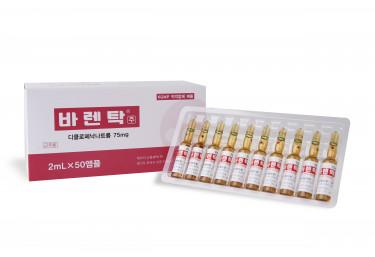medicine_box: (315, 130, 339, 201), (229, 123, 255, 188), (261, 127, 286, 193), (245, 124, 270, 190), (213, 122, 239, 185), (198, 120, 224, 183), (296, 130, 320, 198), (279, 127, 303, 195), (170, 118, 196, 178), (184, 120, 209, 180)
